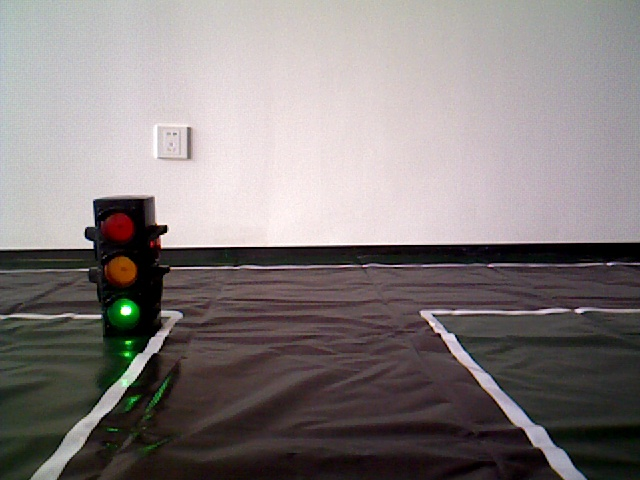green: (95, 202, 154, 333)
